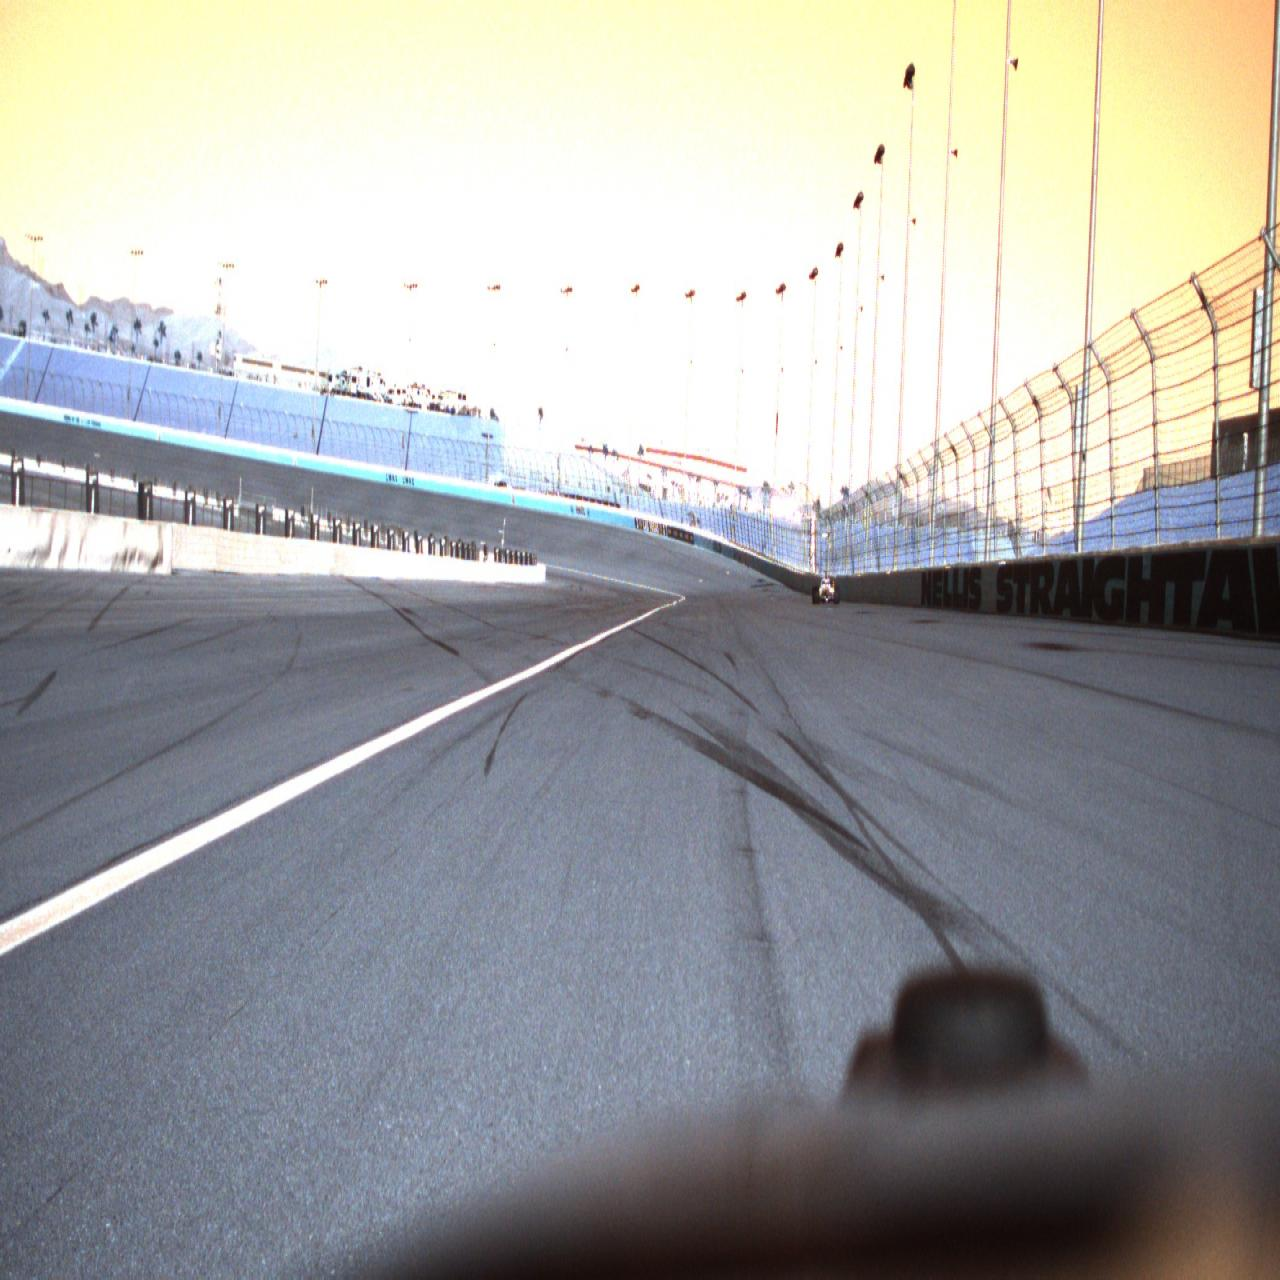AV: (812, 571, 839, 605)
Wheel: (812, 587, 819, 605), (833, 585, 839, 604)
